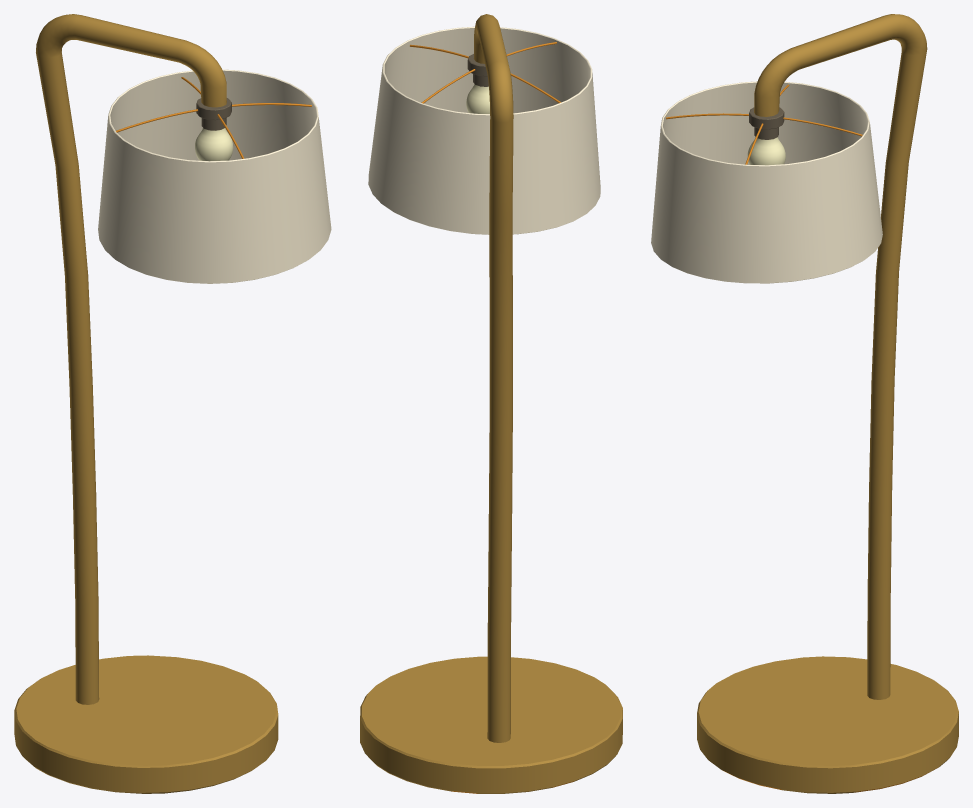
The model's file is Standing_Lamp.glb.
The picture shows the model from 3 angles, left to right: view 1: azimuth 30°, elevation 25°; view 2: azimuth 150°, elevation 25°; view 3: azimuth 270°, elevation 25°; orthographic projection.
Visible parts, largest first — view 1: Lamp_floor1; view 2: Lamp_floor1; view 3: Lamp_floor1.
Part boxes in pixels (<box>): Lamp_floor1: <box>14,14,331,793</box>; Lamp_floor1: <box>360,14,622,793</box>; Lamp_floor1: <box>651,14,958,793</box>.
Size of the model in its own units: 0.6739 by 1.81 by 0.7153.
3 materials, 2 textured.
